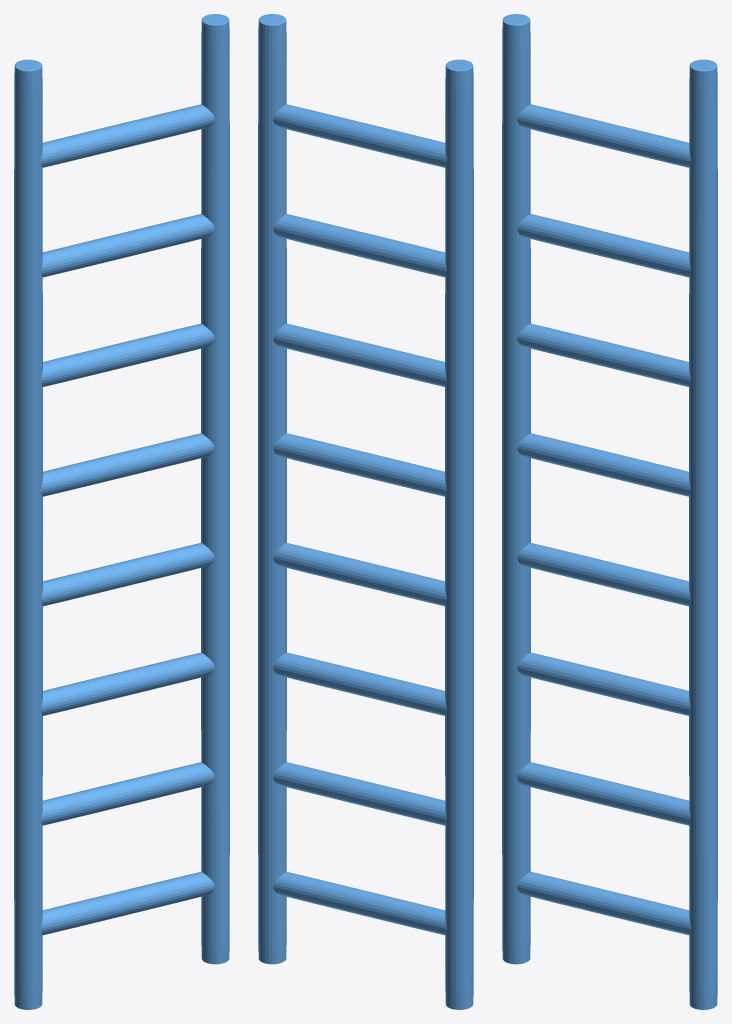
File: PGK_Ladder_Rung_LOD0.fbx
3 renders of one model, left to right at view 1: azimuth 30°, elevation 25°; view 2: azimuth 150°, elevation 25°; view 3: azimuth 330°, elevation 25°, orthographic.
Parts seen in each view (by area): view 1: Rail, Rail.001, Rung7, Rung0, Rung1, Rung6, Rung2, Rung3, Rung4, Rung5; view 2: Rail, Rail.001, Rung7, Rung0, Rung1, Rung6, Rung2, Rung3, Rung4, Rung5; view 3: Rail.001, Rail, Rung7, Rung0, Rung1, Rung6, Rung2, Rung3, Rung4, Rung5.
Part boxes in pixels (bbox=[...]): Rail: bbox=[14, 59, 42, 1009]; Rail.001: bbox=[201, 14, 229, 964]; Rung7: bbox=[41, 104, 214, 167]; Rung0: bbox=[41, 871, 214, 935]; Rung1: bbox=[41, 762, 214, 825]; Rung6: bbox=[41, 214, 214, 277]; Rung2: bbox=[41, 652, 214, 715]; Rung3: bbox=[41, 543, 214, 606]; Rung4: bbox=[41, 433, 214, 496]; Rung5: bbox=[41, 323, 214, 386]; Rail: bbox=[445, 59, 473, 1009]; Rail.001: bbox=[258, 14, 286, 964]; Rung7: bbox=[273, 104, 446, 167]; Rung0: bbox=[273, 871, 446, 935]; Rung1: bbox=[273, 762, 446, 825]; Rung6: bbox=[273, 214, 446, 277]; Rung2: bbox=[273, 652, 446, 715]; Rung3: bbox=[273, 543, 446, 606]; Rung4: bbox=[273, 433, 446, 496]; Rung5: bbox=[273, 323, 446, 386]; Rail.001: bbox=[689, 59, 717, 1009]; Rail: bbox=[502, 14, 530, 964]; Rung7: bbox=[517, 104, 690, 167]; Rung0: bbox=[517, 871, 690, 935]; Rung1: bbox=[517, 762, 690, 825]; Rung6: bbox=[517, 214, 690, 277]; Rung2: bbox=[517, 652, 690, 715]; Rung3: bbox=[517, 543, 690, 606]; Rung4: bbox=[517, 433, 690, 496]; Rung5: bbox=[517, 323, 690, 386].
Size of the model in its own units: 0.5668 by 2.4 by 0.0668.
